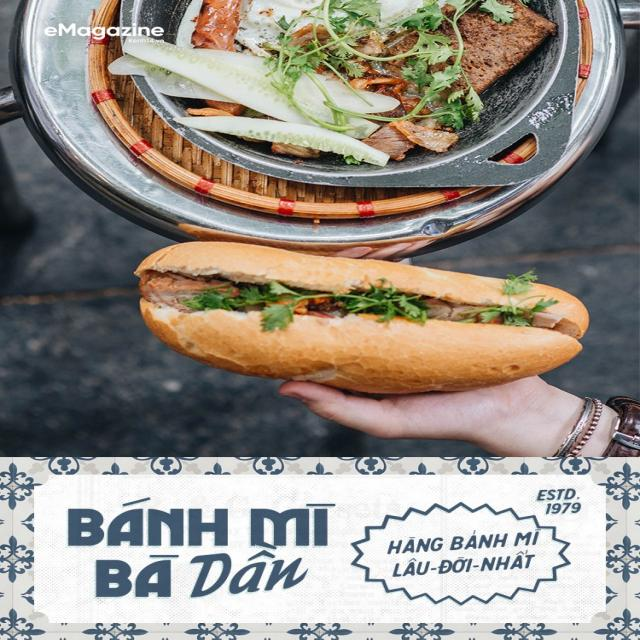banh mi: (135, 242, 588, 393)
